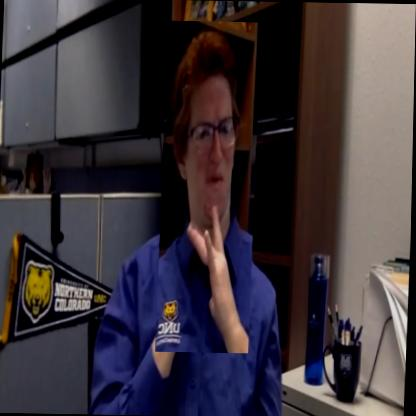Talk: (156, 20, 261, 352)
